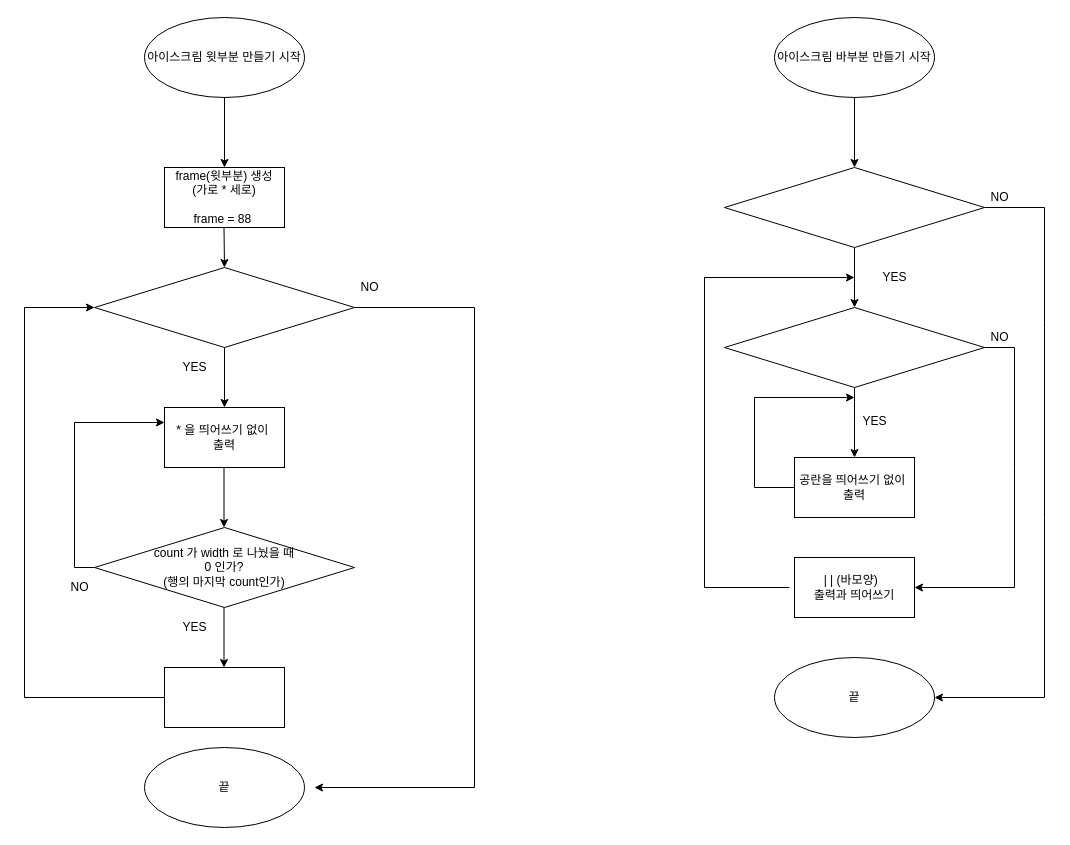
This 1070x845 diagram has some shape labels left out. Each missing label, with the centre of its shape:
"* 을 출력과 띄어쓰기" goes at point 224,697.
"count 가 frame 보다 작은가?" goes at point 224,307.
"rowCount 가 row 보다 작은가?" goes at point 854,207.
"spaceCount 가 frontSpace 보다 작은가?" goes at point 854,347.
